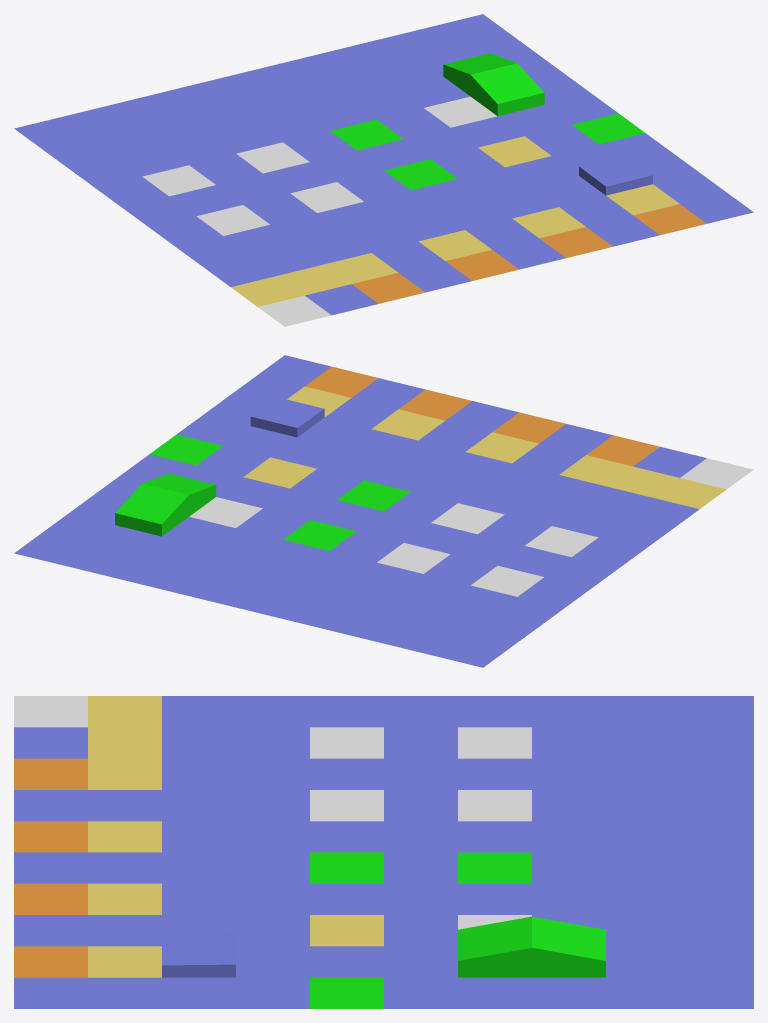
Rendered from ground.fbx.
3 renders of one model, top to bottom at view 1: azimuth 30°, elevation 25°; view 2: azimuth 150°, elevation 25°; view 3: azimuth 270°, elevation 25°, orthographic. The views are drawn at different scales.
Visible parts, largest first — view 1: Plane.099, Plane.094, Plane.004, Plane.010, Plane.012, Plane.018, Plane.041, Plane.043, Plane.047, Plane.058, Plane.062, Plane.073 (+87 smaller); view 2: Plane.099, Plane.094, Plane.005, Plane.011, Plane.013, Plane.019, Plane.038, Plane.048, Plane.053, Plane.065, Plane.070, Plane.082 (+87 smaller); view 3: Plane.099, Plane.094, Plane, Plane.001, Plane.002, Plane.003, Plane.004, Plane.005, Plane.006, Plane.007, Plane.008, Plane.009 (+87 smaller).
Boxes of the visible parts, x1,y1,x2,y2 form: Plane.099: [443, 53, 544, 116]; Plane.094: [579, 155, 652, 195]; Plane.004: [305, 284, 377, 315]; Plane.010: [586, 215, 659, 246]; Plane.012: [390, 25, 462, 56]; Plane.018: [108, 94, 181, 125]; Plane.041: [142, 165, 215, 196]; Plane.043: [88, 125, 161, 156]; Plane.047: [243, 193, 316, 224]; Plane.058: [209, 122, 282, 153]; Plane.062: [364, 190, 437, 221]; Plane.073: [330, 119, 403, 150]; Plane.099: [115, 473, 216, 536]; Plane.094: [250, 397, 324, 437]; Plane.005: [586, 435, 659, 466]; Plane.011: [305, 366, 377, 397]; Plane.013: [108, 556, 181, 587]; Plane.019: [390, 625, 462, 656]; Plane.038: [552, 506, 625, 537]; Plane.048: [451, 534, 524, 565]; Plane.053: [485, 463, 558, 494]; Plane.065: [330, 531, 403, 562]; Plane.070: [364, 460, 437, 491]; Plane.082: [209, 528, 282, 559]; Plane.099: [458, 916, 605, 977]; Plane.094: [162, 933, 235, 977]; Plane: [14, 696, 87, 727]; Plane.001: [14, 977, 87, 1008]; Plane.002: [680, 696, 753, 727]; Plane.003: [680, 977, 753, 1008]; Plane.004: [14, 727, 87, 758]; Plane.005: [14, 758, 87, 789]; Plane.006: [14, 790, 87, 821]; Plane.007: [14, 821, 87, 852]; Plane.008: [14, 852, 87, 883]; Plane.009: [14, 883, 87, 914].
Size of the model in its own units: 1000 by 44.55 by 1000.
